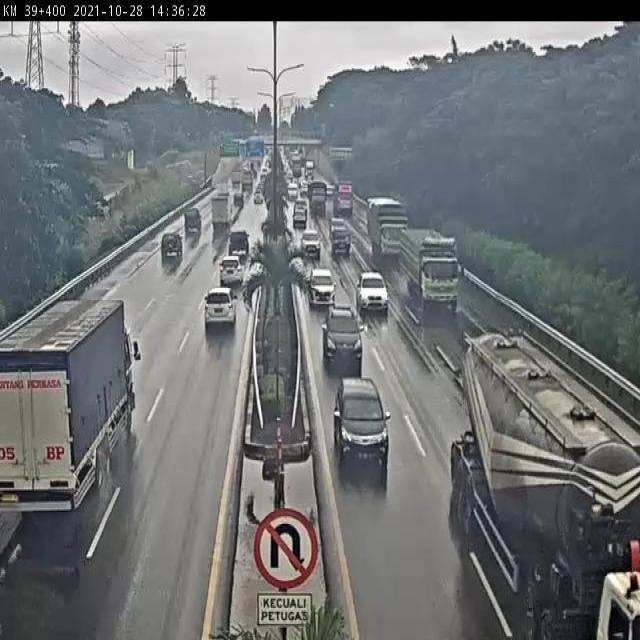big truck: (453, 330, 640, 640), (0, 293, 136, 515), (399, 225, 457, 307), (368, 196, 408, 260), (209, 193, 233, 232)
car: (336, 380, 391, 467), (320, 302, 362, 362), (201, 284, 237, 331), (356, 265, 388, 311), (308, 268, 336, 305), (156, 232, 181, 263), (217, 259, 241, 289), (227, 230, 251, 258), (300, 227, 321, 254), (331, 228, 351, 256), (183, 204, 202, 233), (291, 207, 309, 228), (330, 215, 346, 233)
